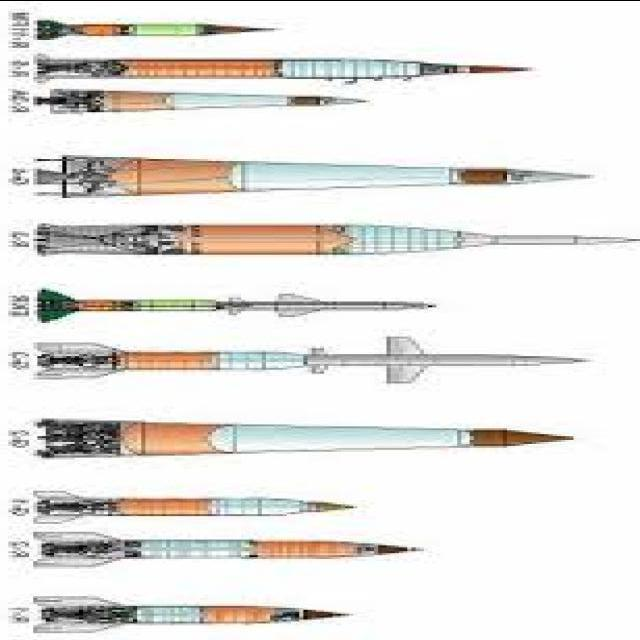missile: (31, 415, 595, 467), (26, 220, 631, 260), (15, 529, 427, 566), (27, 489, 352, 524), (17, 597, 351, 631), (36, 85, 380, 118), (27, 11, 286, 43)
